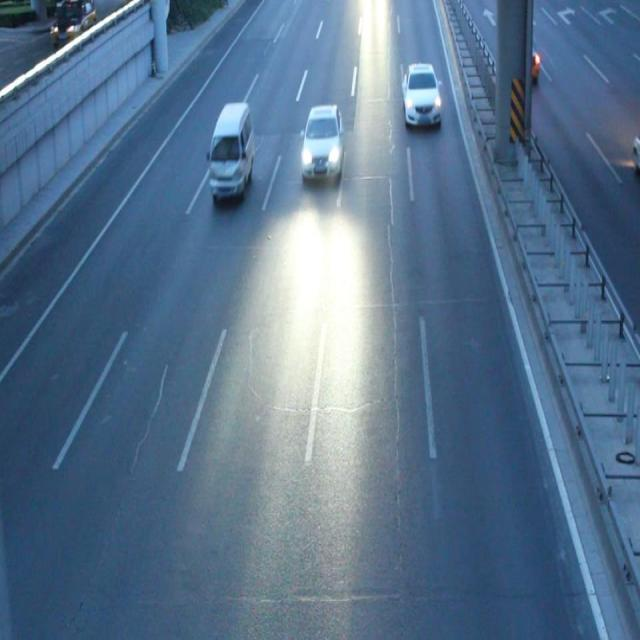car: (208, 102, 254, 199), (302, 104, 344, 182), (399, 61, 442, 127)
